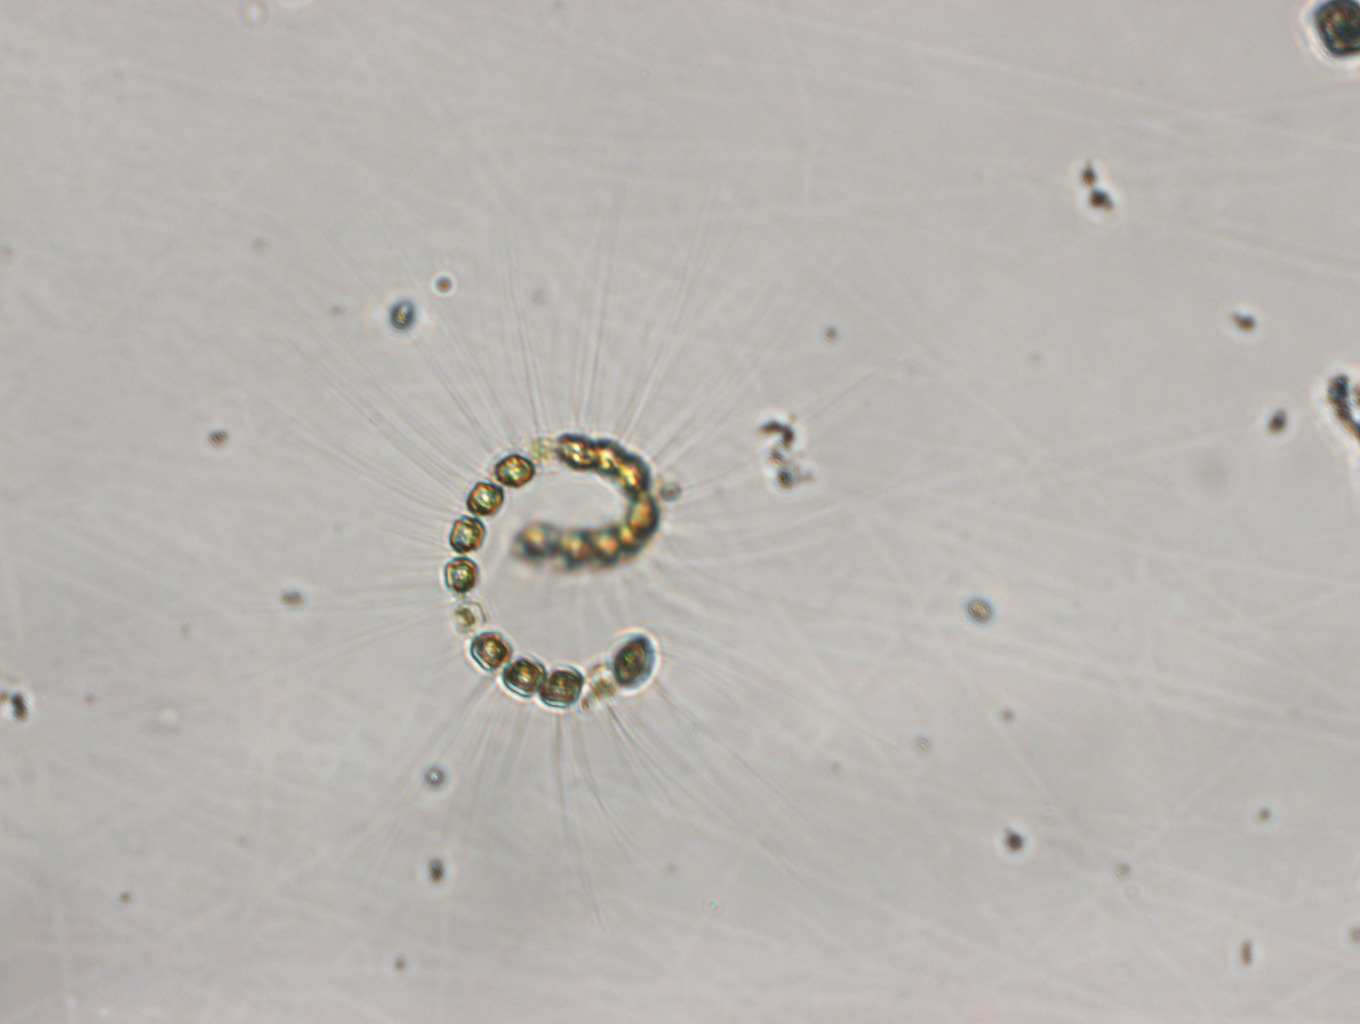chaetoceros: (284, 228, 869, 863)
